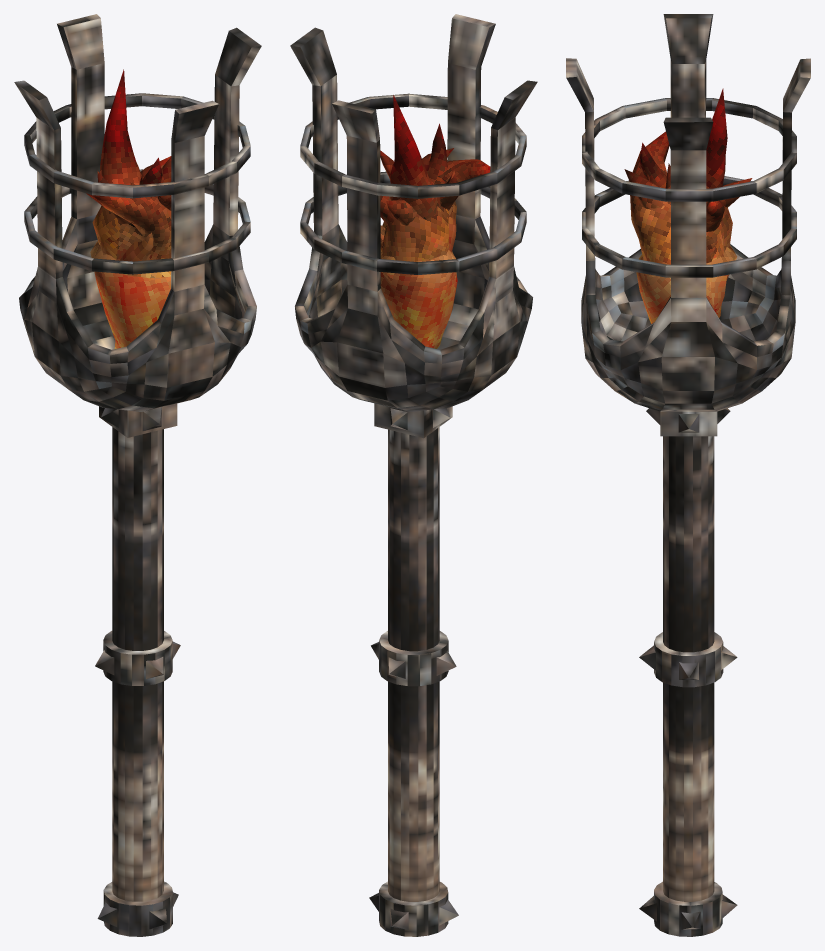
File: torch.obj
3 renders of one model, left to right at view 1: azimuth 30°, elevation 25°; view 2: azimuth 150°, elevation 25°; view 3: azimuth 270°, elevation 25°, orthographic.
Visible parts, largest first — view 1: Torch.000_Torchmodel.000, Fire.000_Object002; view 2: Torch.000_Torchmodel.000, Fire.000_Object002; view 3: Torch.000_Torchmodel.000, Fire.000_Object002.
Part boxes in pixels (bbox=[...]): Torch.000_Torchmodel.000: bbox=[14, 14, 261, 936]; Fire.000_Object002: bbox=[86, 69, 171, 348]; Torch.000_Torchmodel.000: bbox=[290, 14, 537, 936]; Fire.000_Object002: bbox=[380, 95, 490, 348]; Torch.000_Torchmodel.000: bbox=[566, 14, 810, 936]; Fire.000_Object002: bbox=[624, 88, 752, 323].
Size of the model in its own units: 0.3338 by 1.23 by 0.3192.
2 materials, 2 textured.
